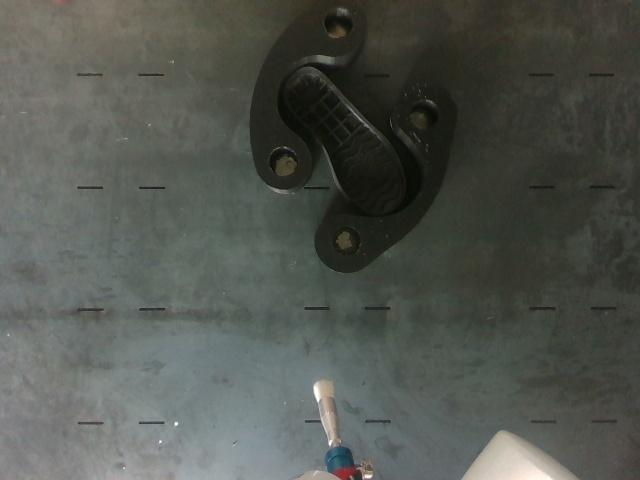shoes: (284, 67, 405, 216)
